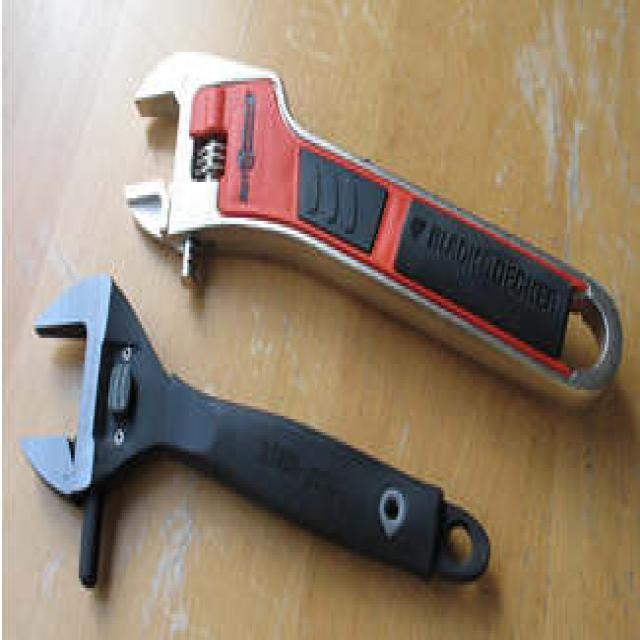wrench: (99, 19, 446, 300)
